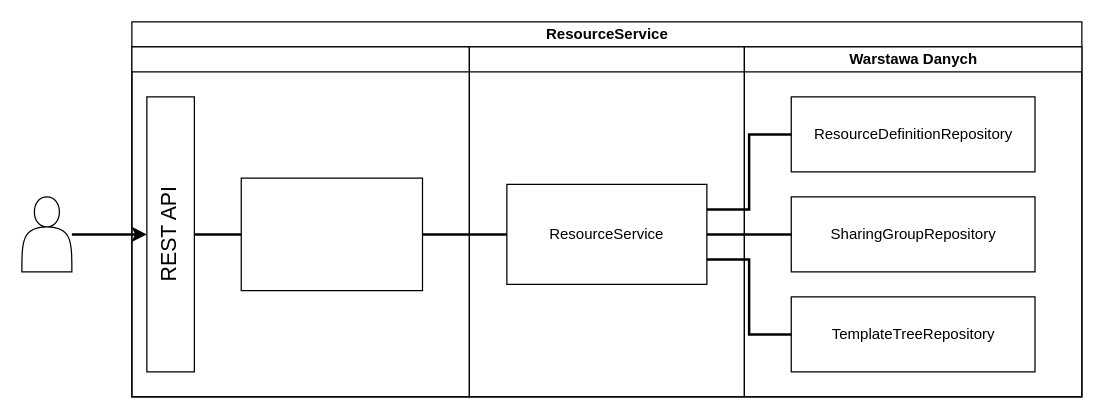
Some shapes in this 1104 by 419 pixel diagram are drawn without their labels. Each missing label, with the box of its shape:
ProjectResourceRequest: (240, 177, 422, 291)
Warstwa Komunikacyjna: (131, 46, 469, 397)
Warstwa Serwisowa: (468, 46, 744, 397)
